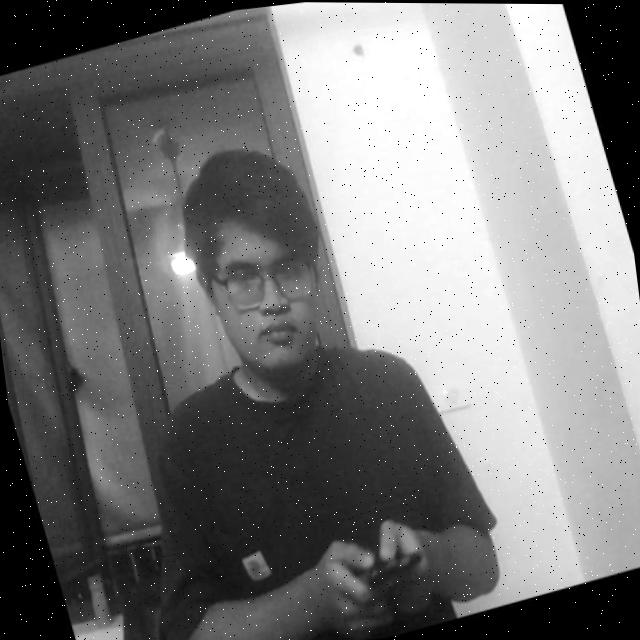phone: (329, 519, 442, 614)
